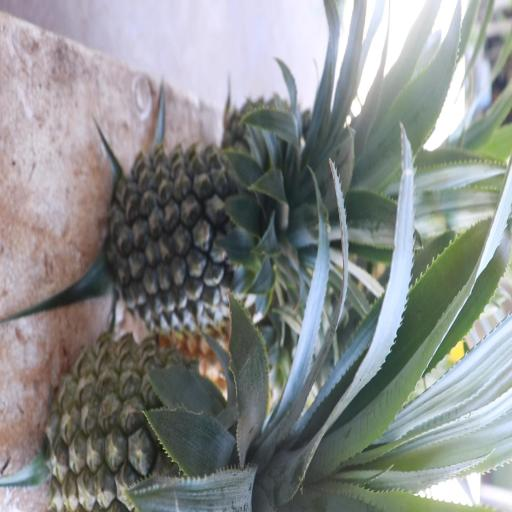------------------------------: (49, 326, 274, 512)
